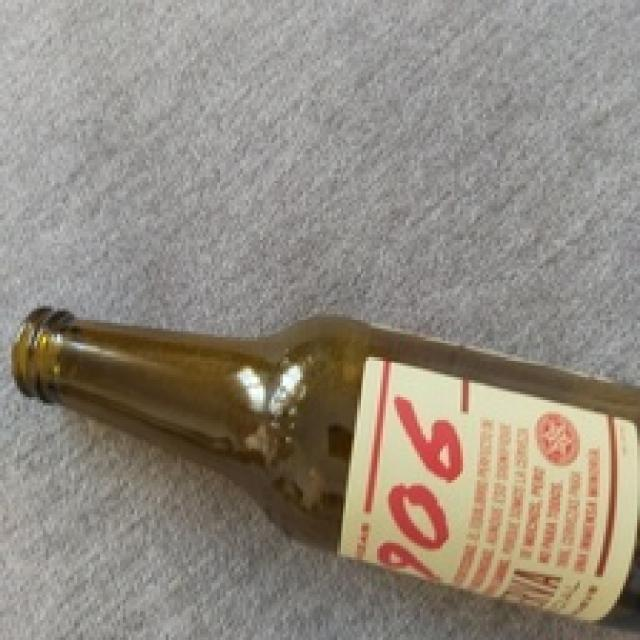Glass: (10, 305, 640, 629)
